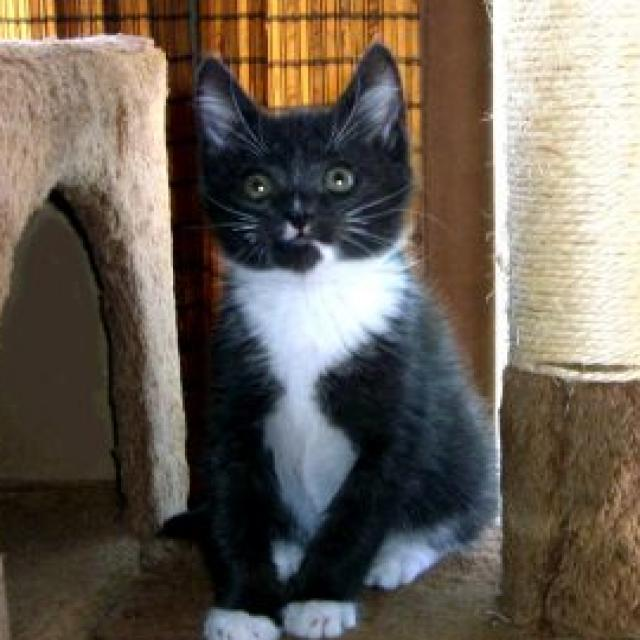Tuxedo: (183, 37, 500, 640)
